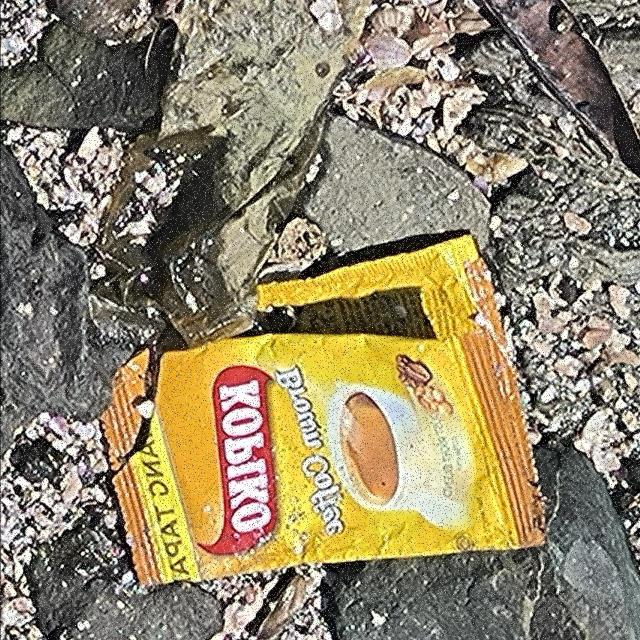plastic_waste: (95, 232, 550, 592)
